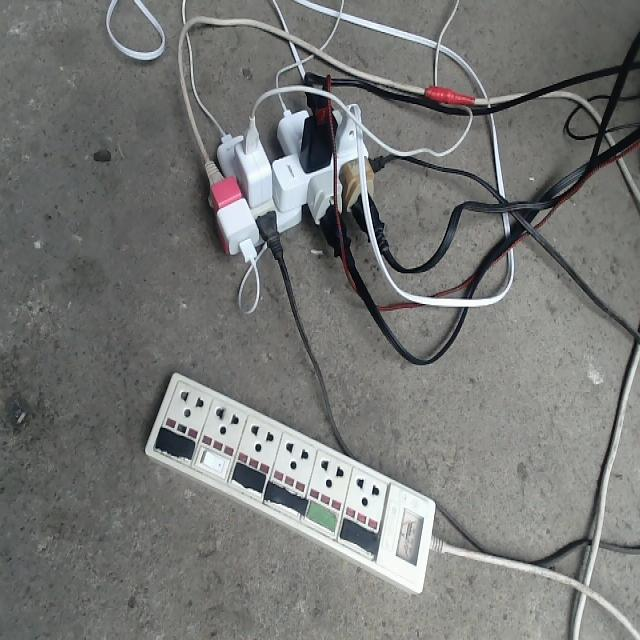-: (199, 98, 382, 270)
